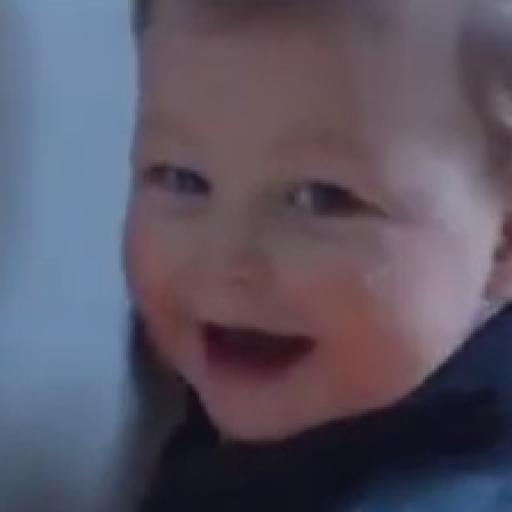Autism: (56, 10, 512, 458)
